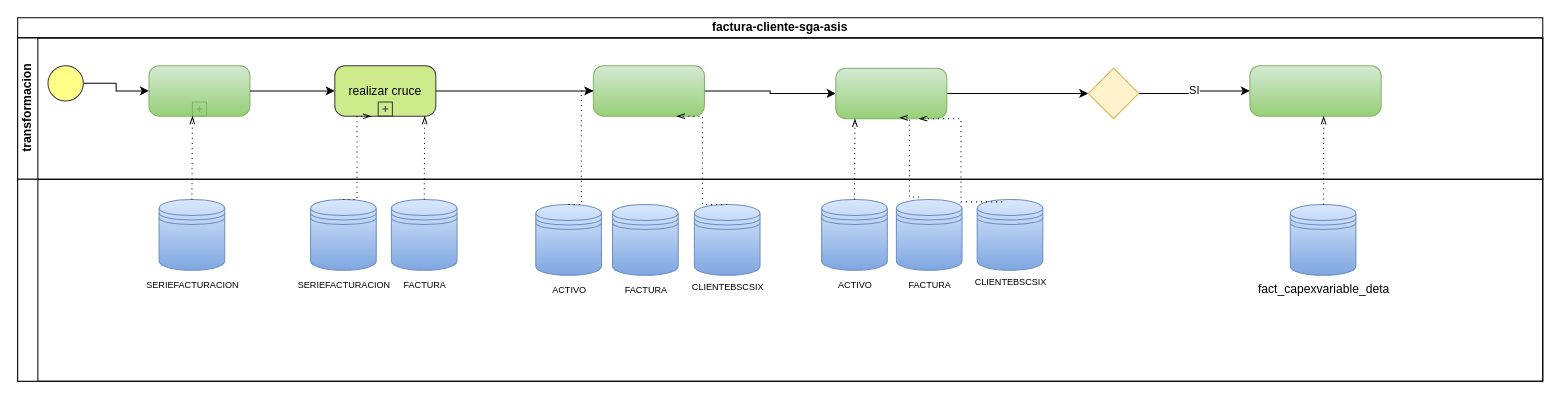
Some shapes in this 1560 by 399 pixel diagram are drawn without their labels. Each missing label, with the box of its shape:
agregar columna cliente_numrecibocliente: (1249, 65, 1381, 116)
data: (17, 178, 1543, 381)
existen registros?: (1087, 67, 1139, 119)
filtrar registro: (148, 65, 250, 116)
Relacionar tabla A FILTRO BSCS7: (592, 65, 704, 116)
Relacionar tabla B, FILTRO BSCSIX: (835, 67, 947, 119)
